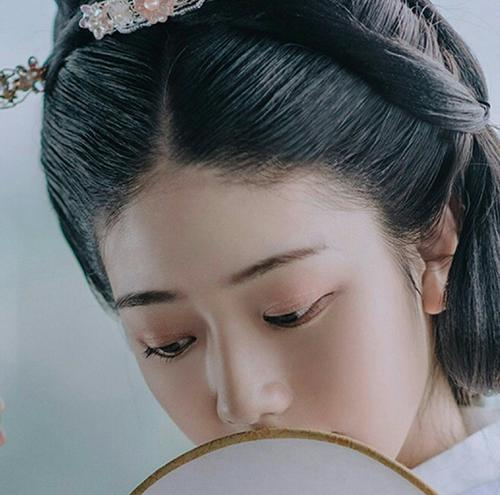no_mask: (15, 2, 498, 480)
